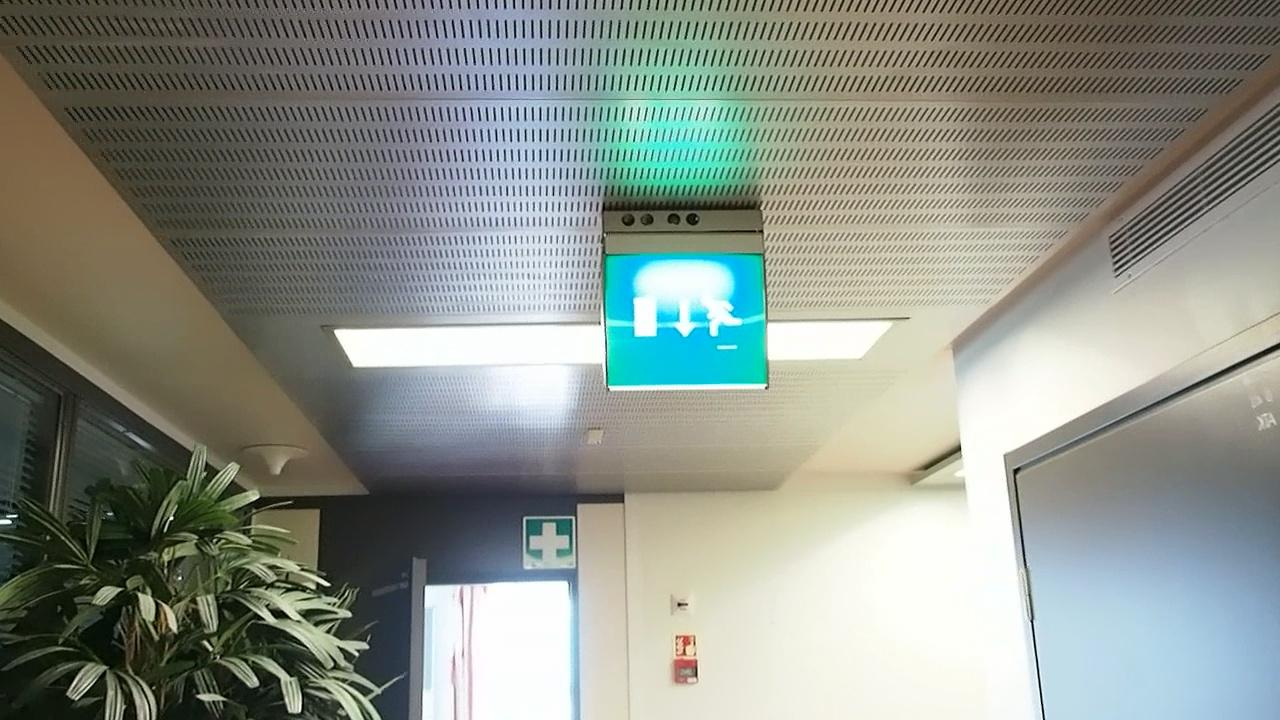exit: (600, 246, 773, 393)
